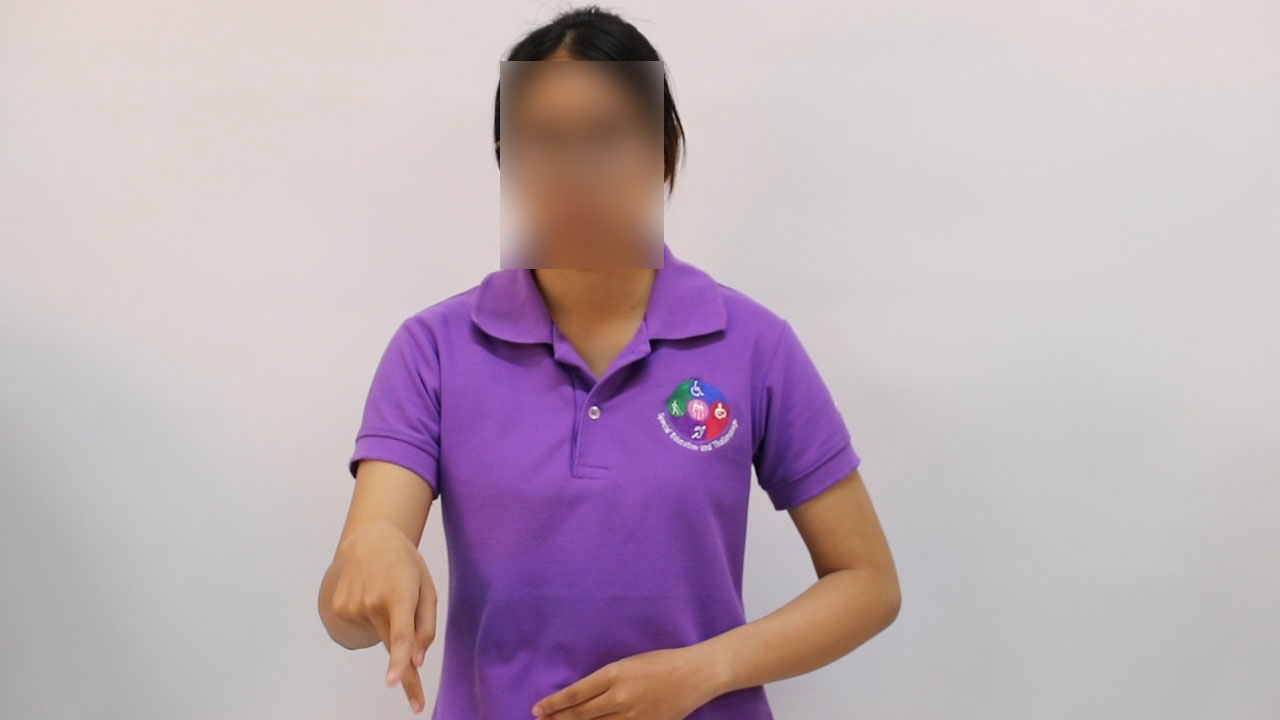por: (316, 510, 469, 717)
